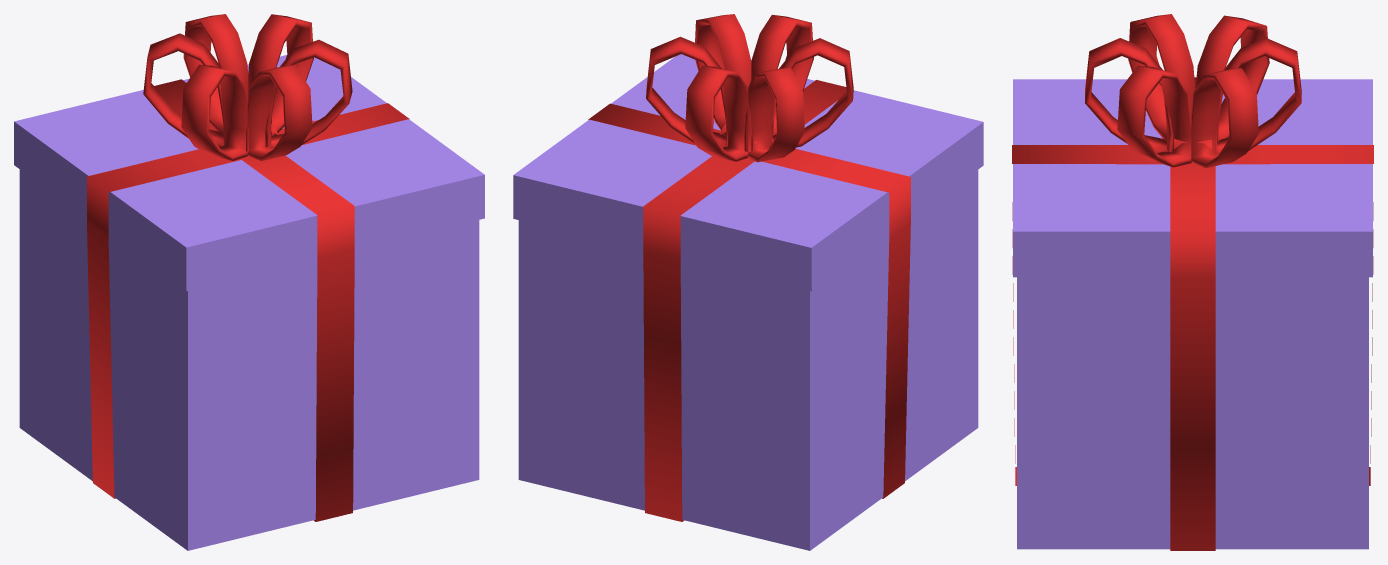
The model's file is preboxrib08270112purple.fbx.
The picture shows the model from 3 angles, left to right: view 1: azimuth 30°, elevation 25°; view 2: azimuth 150°, elevation 25°; view 3: azimuth 270°, elevation 25°; orthographic projection. The views are drawn at different scales.
Visible parts, largest first — view 1: Cube, 平面; view 2: Cube, 平面; view 3: Cube, 平面.
Part boxes in pixels (box(x1,y1,x2,y2)): Cube: box(14, 55, 484, 550); 平面: box(87, 14, 409, 521); Cube: box(513, 54, 983, 550); 平面: box(588, 14, 910, 521); Cube: box(1013, 79, 1372, 549); 平面: box(1012, 14, 1373, 550).
Size of the model in its own units: 2.07 by 2.71 by 2.06.
